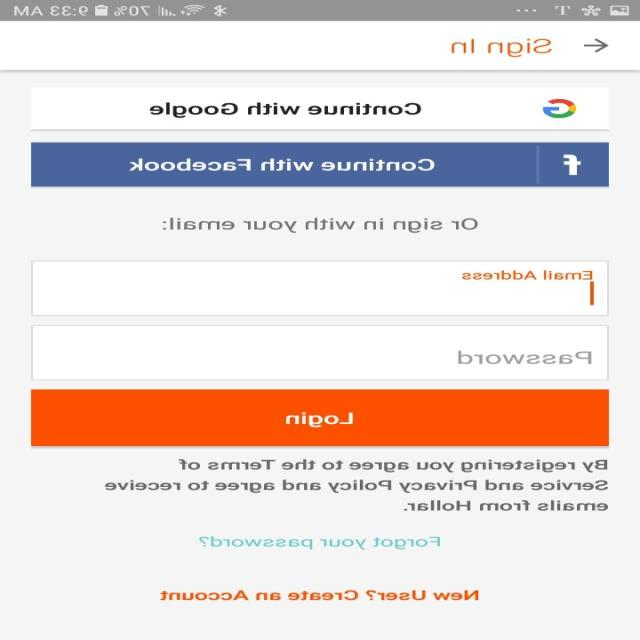EditText: (32, 260, 609, 316), (32, 325, 609, 380)
Icon: (584, 38, 609, 52)
Text: (105, 459, 608, 510), (163, 217, 480, 233), (161, 589, 479, 600), (199, 536, 441, 550), (452, 38, 552, 58), (458, 350, 592, 364), (462, 270, 592, 279)
TextButton: (32, 389, 609, 446), (32, 142, 609, 187), (32, 88, 609, 130)
